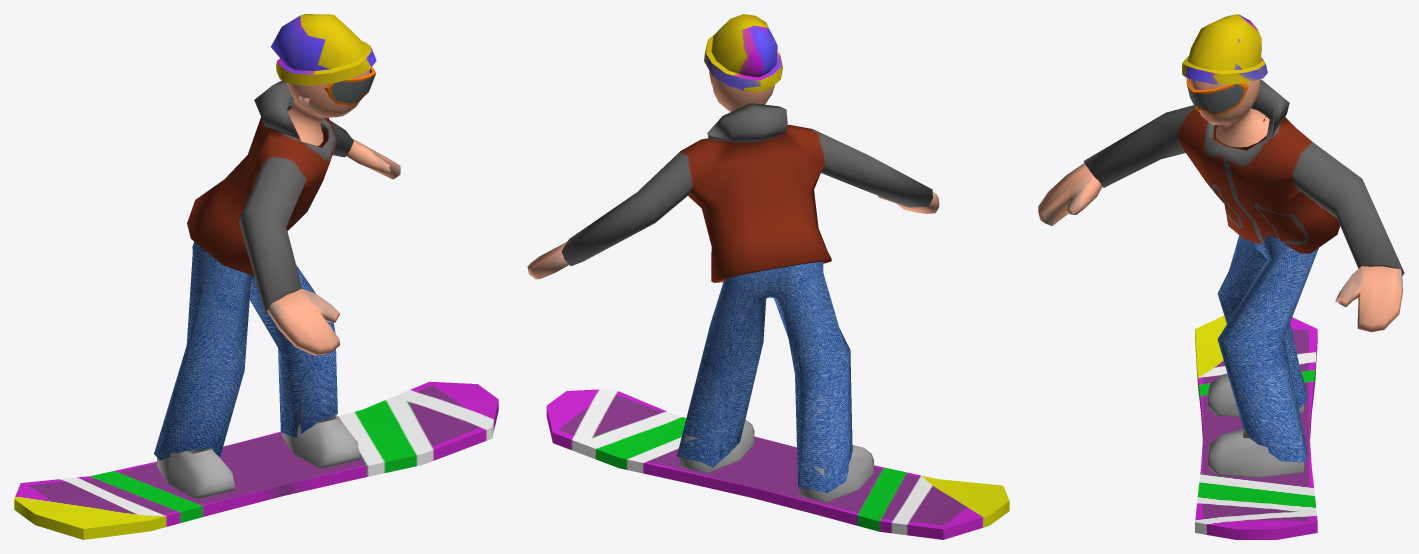
The model's file is MartyMcfly2.DAE.
3 views of the same model, side by side, from view 1: azimuth 30°, elevation 25°; view 2: azimuth 150°, elevation 25°; view 3: azimuth 270°, elevation 25° (orthographic). The views are drawn at different scales.
Parts seen in each view (by area): view 1: pants; view 2: pants; view 3: pants.
Boxes of the visible parts, x1,y1,x2,y2 form: pants: (14, 14, 498, 539); pants: (527, 14, 1009, 539); pants: (1038, 14, 1404, 539).
Size of the model in its own units: 141 by 133 by 98.69.
